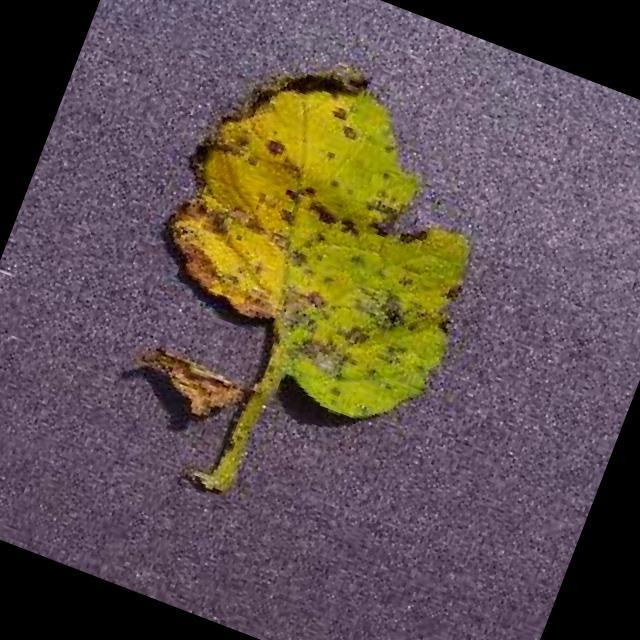Tomato Septoria spot leaf: (123, 21, 530, 444)
